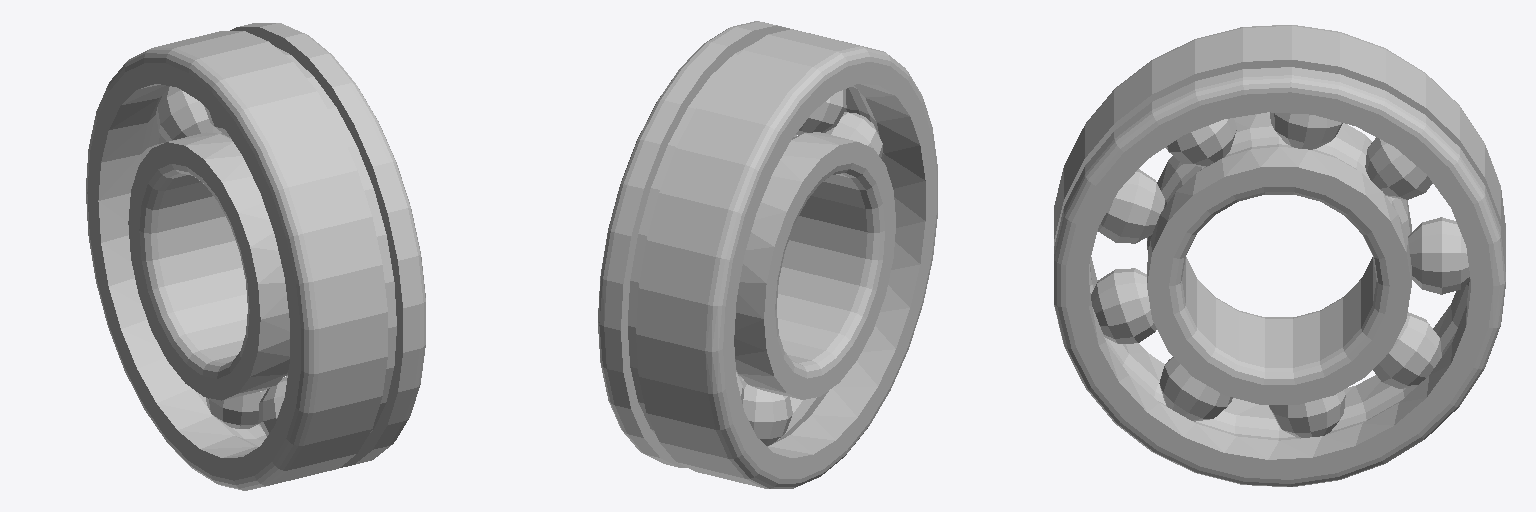
3 views of the same model, side by side, from view 1: azimuth 30°, elevation 25°; view 2: azimuth 150°, elevation 25°; view 3: azimuth 270°, elevation 25° (orthographic).
Visible parts, largest first — view 1: Подшипник.001; view 2: Подшипник.001; view 3: Подшипник.001.
Part boxes in pixels (bbox=[...]): Подшипник.001: bbox=[86, 23, 425, 490]; Подшипник.001: bbox=[598, 21, 937, 488]; Подшипник.001: bbox=[1054, 25, 1505, 486].
Bounding box in the file's own units: 11 × 34.95 × 34.9.